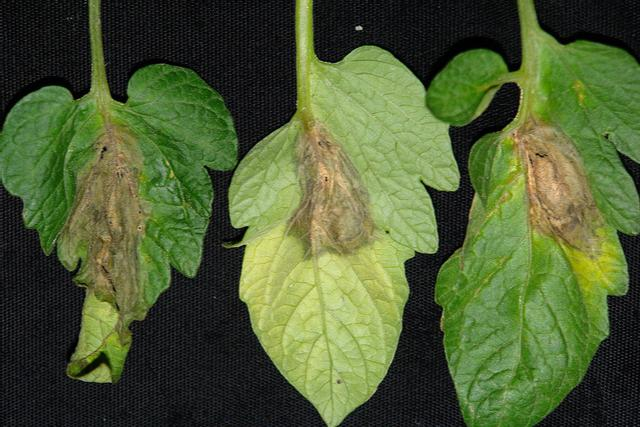Tomato mold leaf: (232, 13, 458, 419), (4, 0, 221, 418), (434, 0, 640, 419)
